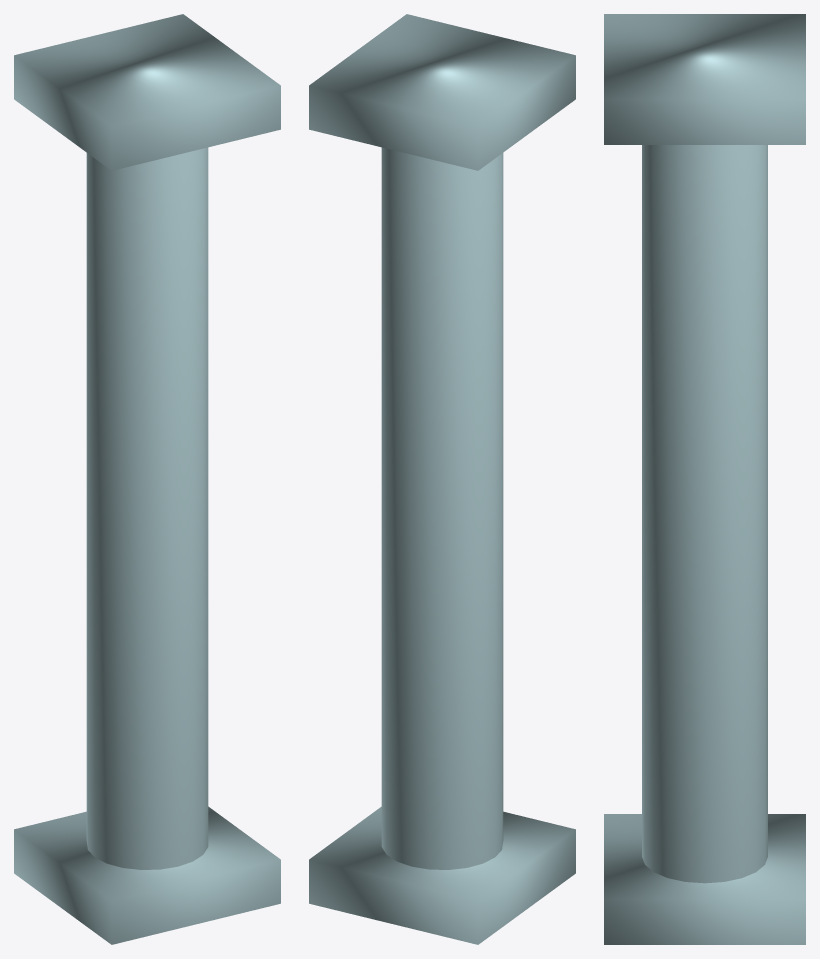
The model's file is flis_pillar.glb.
3 renders of one model, left to right at view 1: azimuth 30°, elevation 25°; view 2: azimuth 150°, elevation 25°; view 3: azimuth 270°, elevation 25°, orthographic. The views are drawn at different scales.
Visible parts, largest first — view 1: flis_pillar; view 2: flis_pillar; view 3: flis_pillar.
Boxes of the visible parts, x1,y1,x2,y2 form: flis_pillar: (14,14,280,944); flis_pillar: (309,14,575,944); flis_pillar: (604,14,805,944).
Size of the model in its own units: 1.6 by 7.4 by 1.6.
